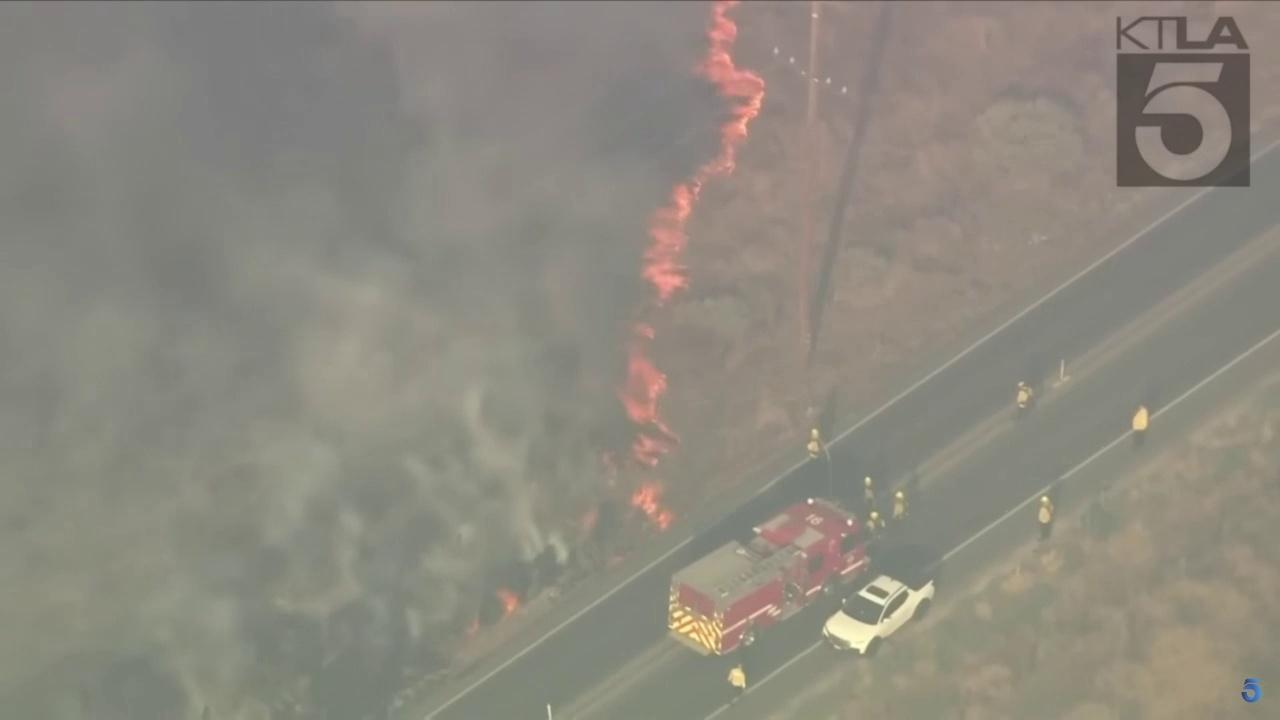fire: (636, 0, 766, 308), (617, 350, 679, 469), (629, 481, 674, 532), (491, 586, 518, 624), (632, 321, 656, 342)
smoke: (0, 0, 731, 720)
